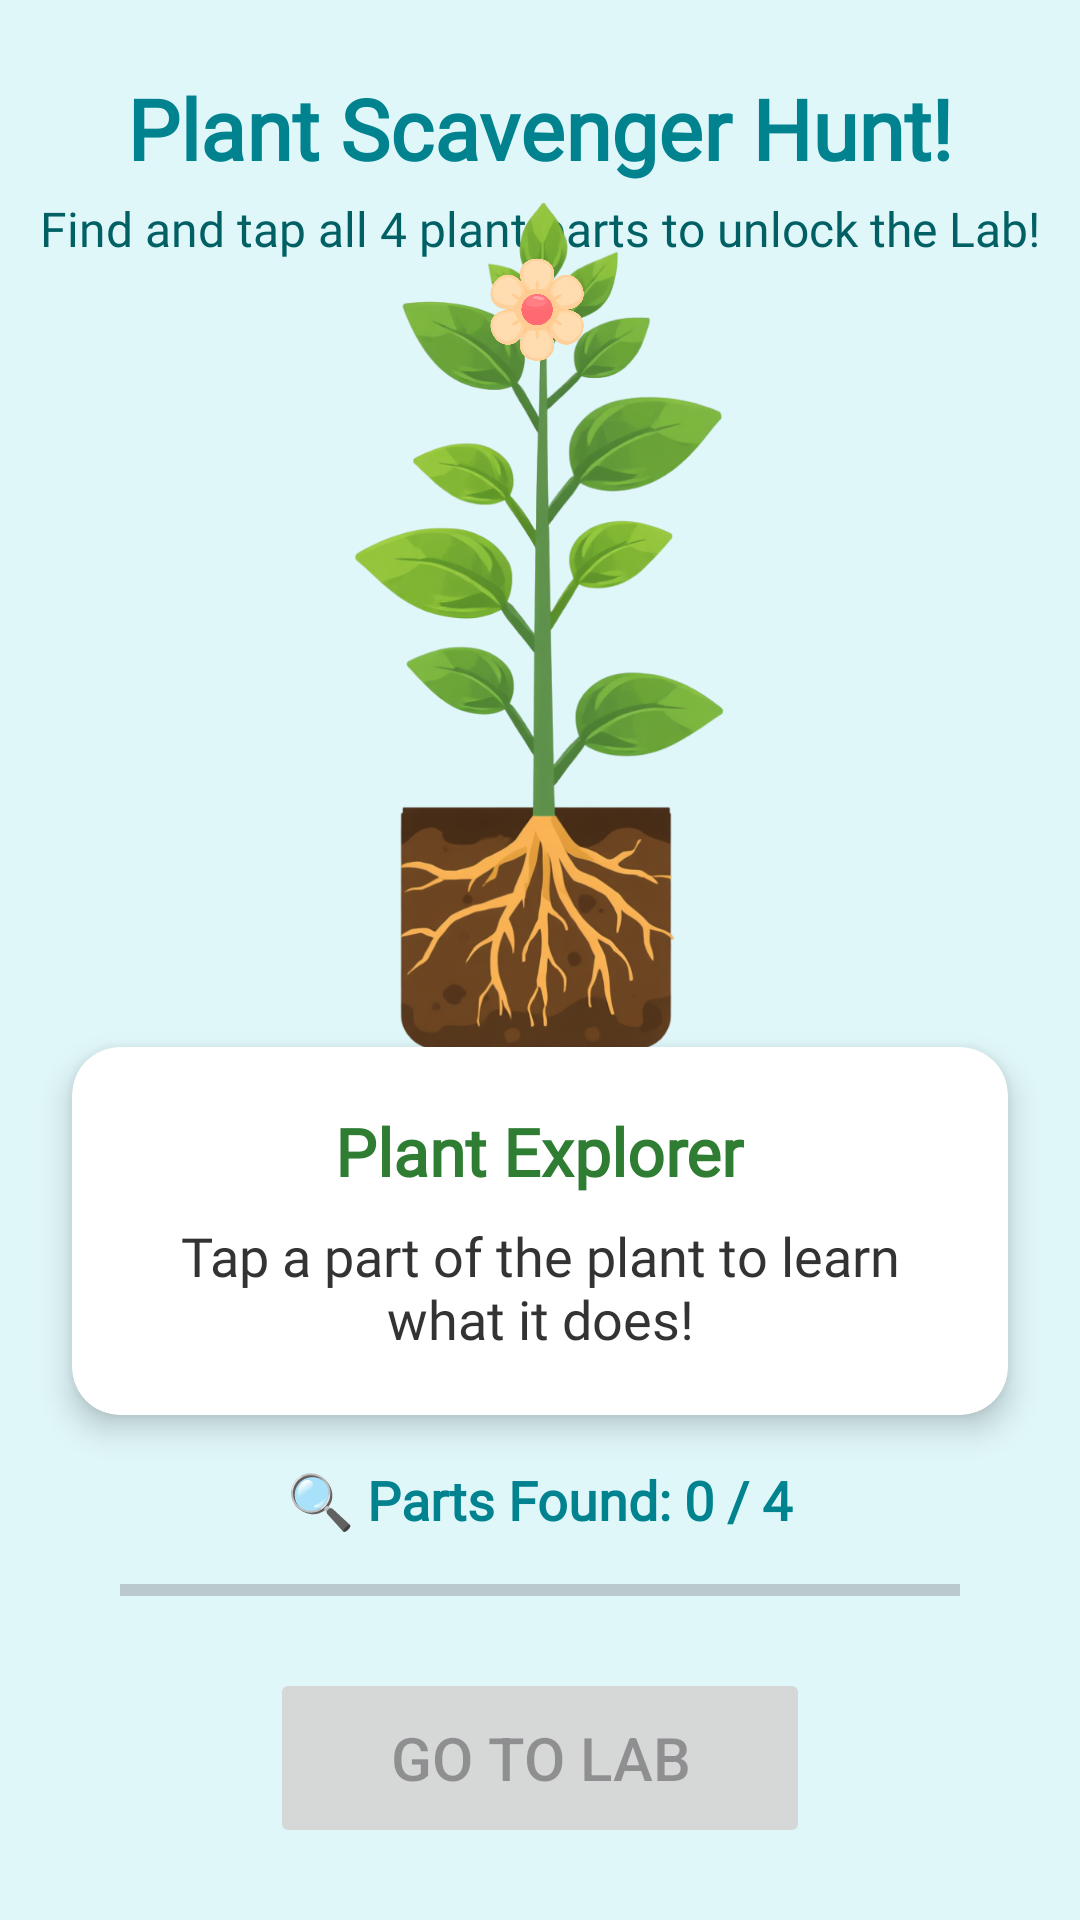

Where to tap for icons on this 1080 × 1920 app screen, as point (x, y):
flower: point (538, 309)
